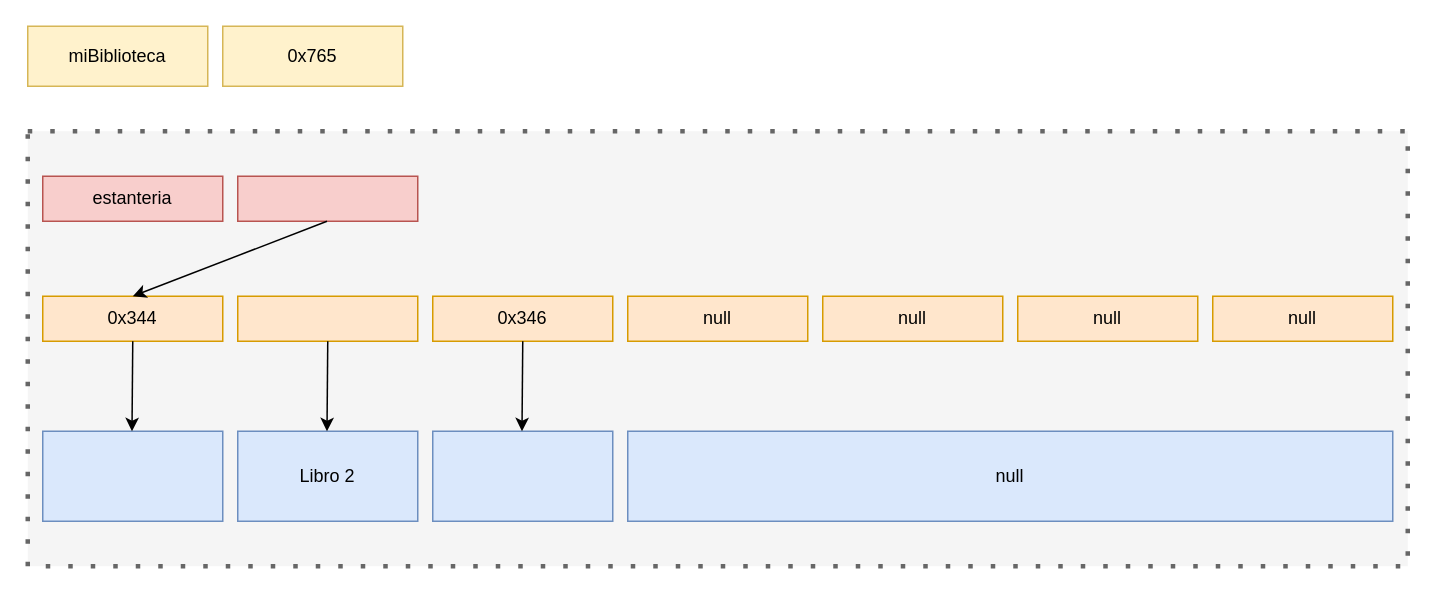
Some shapes in this 1436 by 594 pixel diagram are drawn without their labels. The centre of each missing label's shape, as x and y in pixels:
0x345: the point at 327,318
0x788: the point at 327,198
Libro 1: the point at 132,475
Revista 1: the point at 522,475
